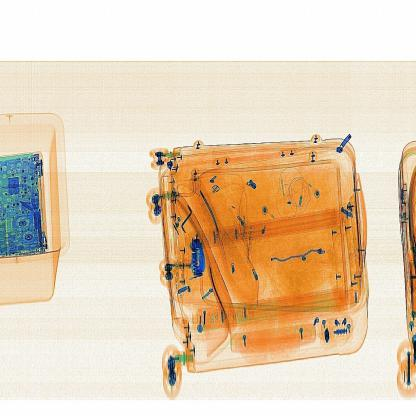scissors: (188, 213, 219, 279)
